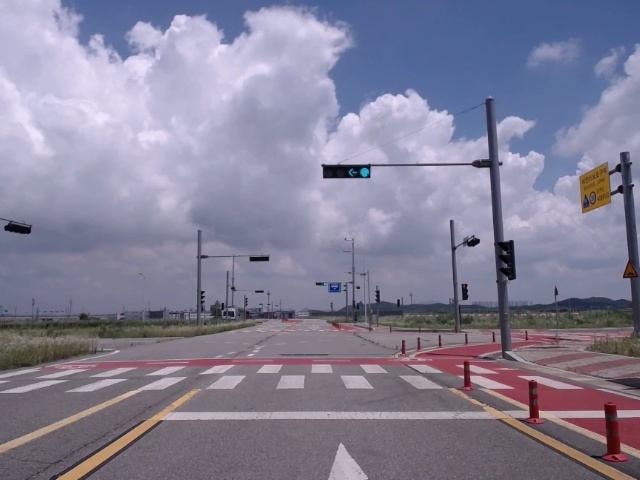all_green_4: (324, 165, 371, 177)
